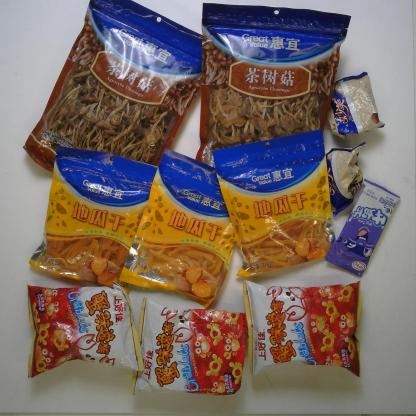Candy: (325, 177, 401, 278)
Dessert: (326, 71, 384, 140), (318, 142, 364, 218)
Dried Food: (22, 0, 229, 209), (186, 2, 353, 206)
Dried Fruit: (119, 149, 261, 308), (29, 146, 164, 299), (213, 130, 343, 277)
Puffed Food: (242, 276, 363, 378), (131, 296, 252, 396), (26, 282, 144, 378)
